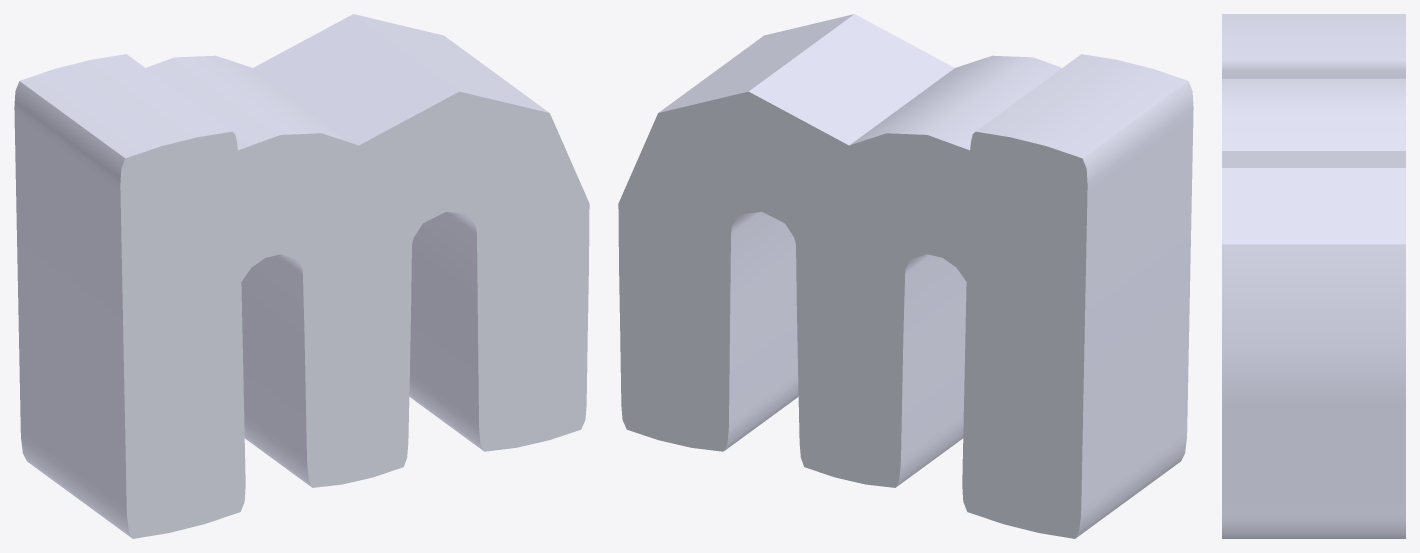
3 renders of one model, left to right at view 1: azimuth 30°, elevation 25°; view 2: azimuth 150°, elevation 25°; view 3: azimuth 270°, elevation 25°, orthographic. The views are drawn at different scales.
Visible parts, largest first — view 1: m_Zyzol_Grey; view 2: m_Zyzol_Grey; view 3: m_Zyzol_Grey.
Boxes of the visible parts, box(x1,y1,x2,y2) form: m_Zyzol_Grey: box(14, 14, 589, 538); m_Zyzol_Grey: box(618, 14, 1193, 538); m_Zyzol_Grey: box(1222, 14, 1405, 538).
Size of what is drawn, in the model's own units: 0.115 by 0.0911 by 0.045.
2 materials, 2 textured.
